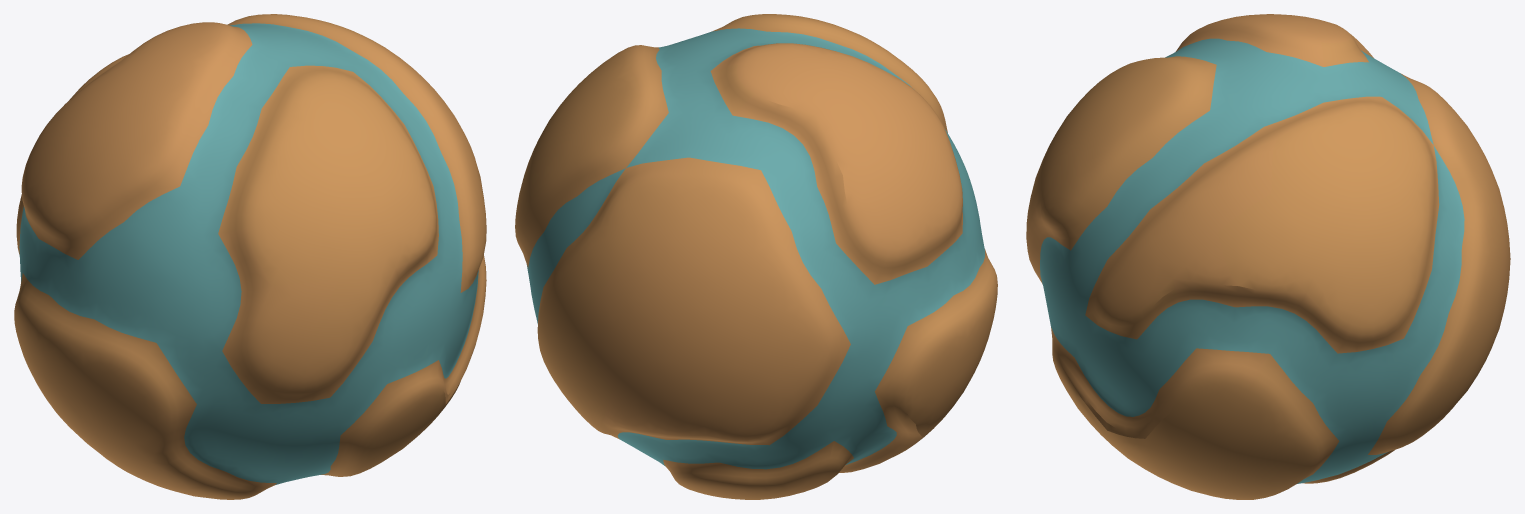
The model's file is planet-desert.glb.
3 renders of one model, left to right at view 1: azimuth 30°, elevation 25°; view 2: azimuth 150°, elevation 25°; view 3: azimuth 270°, elevation 25°, orthographic.
Parts seen in each view (by area): view 1: Planet_2; view 2: Planet_2; view 3: Planet_2.
Part boxes in pixels (x1,y1,x2,y2): Planet_2: (14, 14, 486, 499); Planet_2: (515, 14, 997, 499); Planet_2: (1026, 14, 1510, 499).
Size of the model in its own units: 3.81 by 3.83 by 3.85.
Materials: 1 (1 with a texture image).
